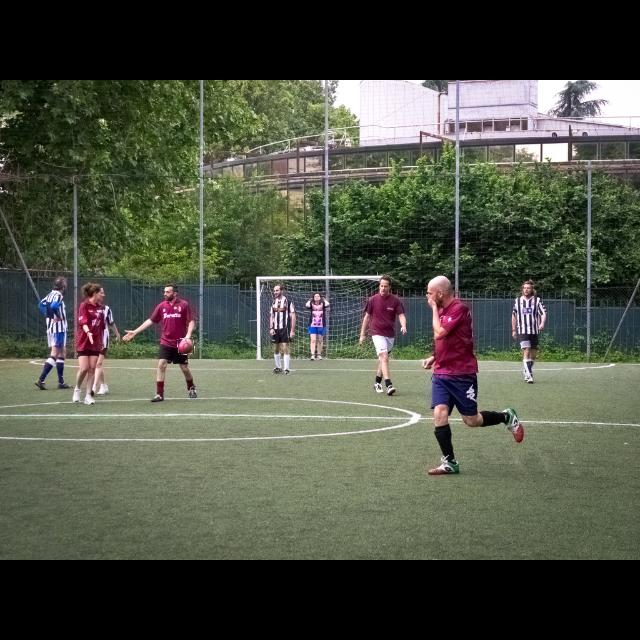Football: (178, 338, 194, 354)
